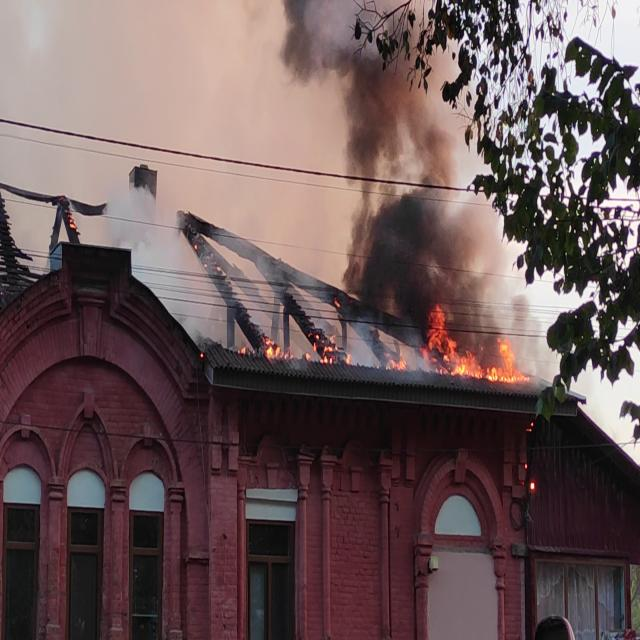fire: (429, 305, 530, 386)
smoke: (354, 54, 462, 306)
